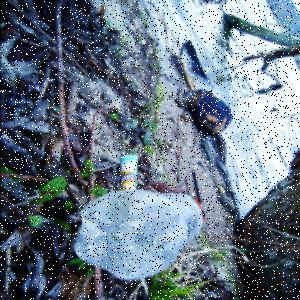Plastic-bottle: (73, 190, 205, 282)
